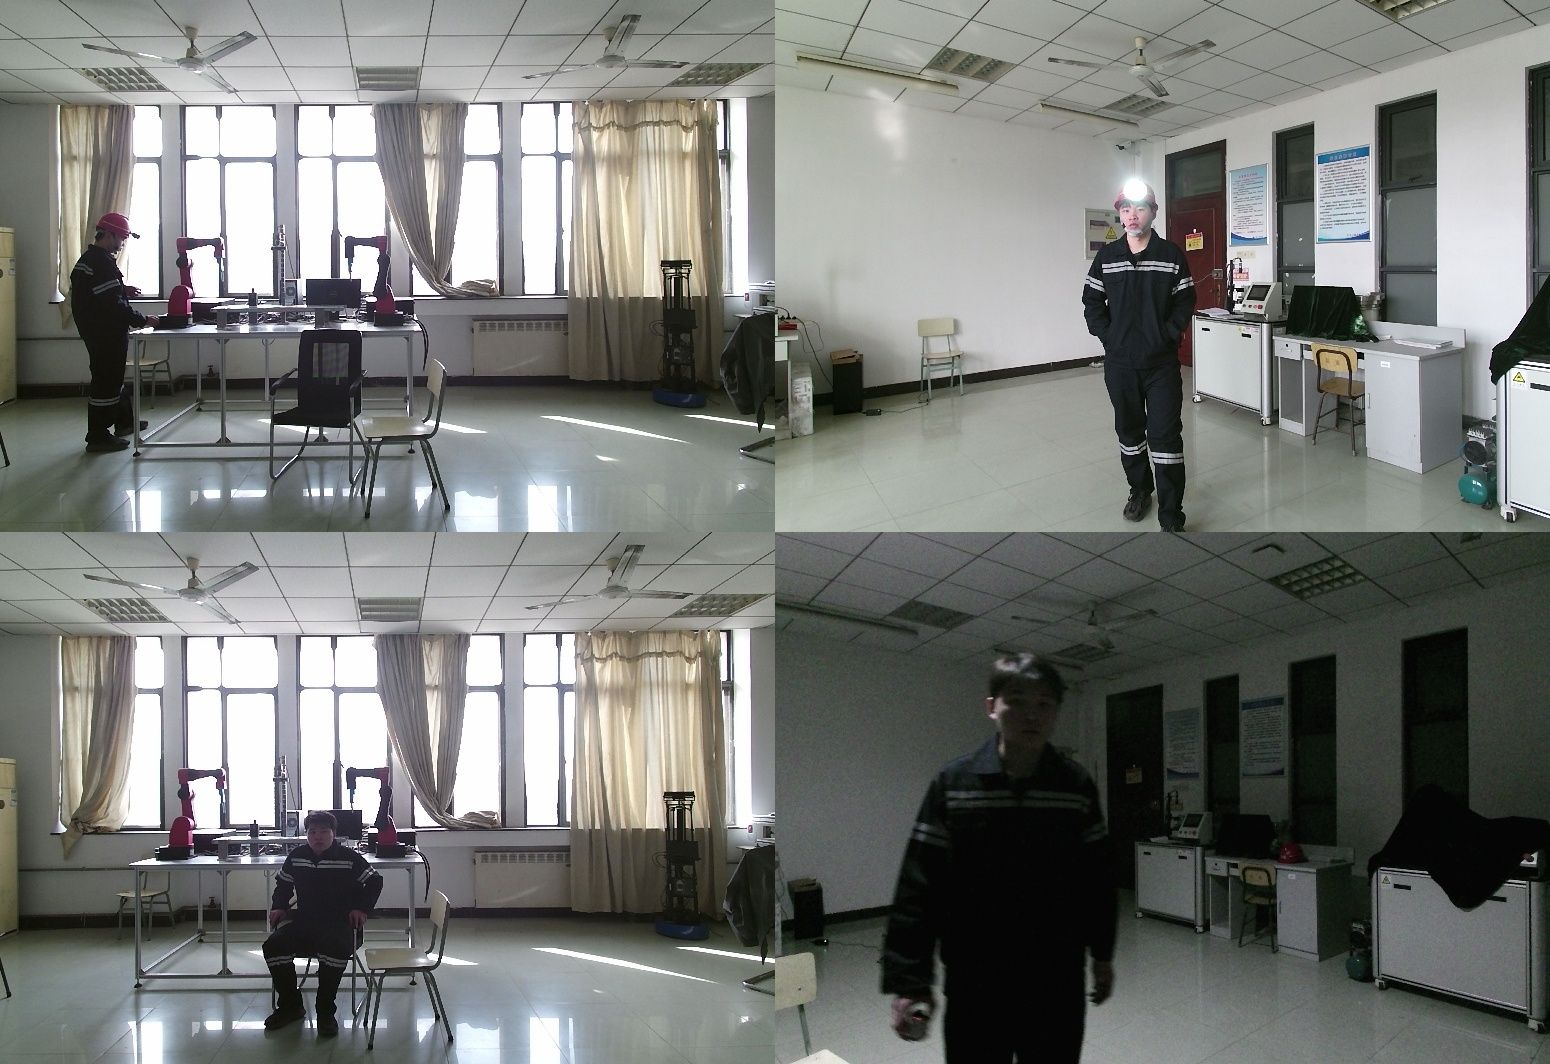person: (880, 654, 1130, 1064), (1079, 182, 1209, 532), (264, 812, 390, 1036), (68, 215, 162, 457)
